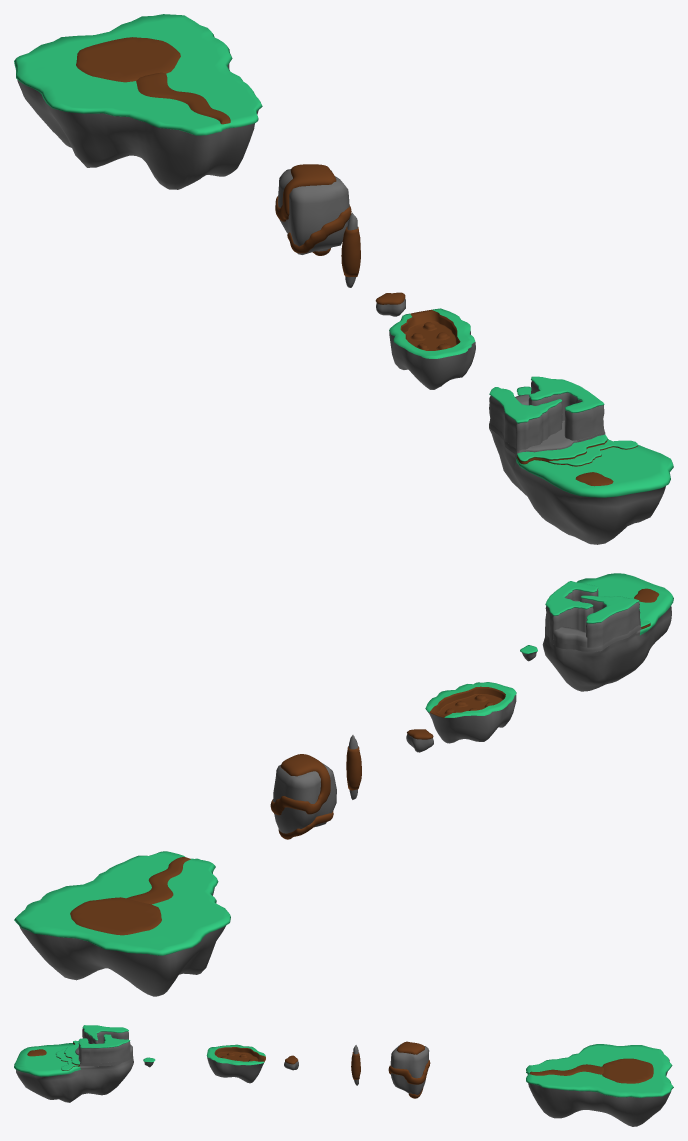
Rendered from Level_1_Models.fbx.
3 views of the same model, one above another, from view 1: azimuth 30°, elevation 25°; view 2: azimuth 150°, elevation 25°; view 3: azimuth 270°, elevation 25° (orthographic). The views are drawn at different scales.
Visible parts, largest first — view 1: IslandEndingArea_Model, IslandStartingArea_Model, WallsStartingArea_Model, IslandEndingAreaTreePlace_Model, IslandBiglMudStone_Model, IslandMudAreaStone_Model, StepsStartingArea_Model, IslandBiglMudDirt_Model, IslandEndingAreaPath_Model, IslandMudAreaDirt_Model, PillarMudAreaDirt_Model; view 2: IslandEndingArea_Model, IslandStartingArea_Model, WallsStartingArea_Model, IslandMudAreaStone_Model, IslandEndingAreaTreePlace_Model, IslandBiglMudStone_Model, IslandBiglMudDirt_Model, IslandMudAreaDirt_Model, IslandEndingAreaPath_Model; view 3: IslandEndingArea_Model, IslandStartingArea_Model, WallsStartingArea_Model, IslandMudAreaStone_Model, IslandBiglMudStone_Model, IslandEndingAreaTreePlace_Model, IslandBiglMudDirt_Model, StepsStartingArea_Model, IslandMudAreaDirt_Model, IslandEndingAreaPath_Model, PillarMudAreaDirt_Model.
Part boxes in pixels (left/top/right/bottom): IslandEndingArea_Model: left=14, top=14, right=262, bottom=189; IslandStartingArea_Model: left=489, top=428, right=673, bottom=544; WallsStartingArea_Model: left=489, top=376, right=604, bottom=451; IslandEndingAreaTreePlace_Model: left=76, top=37, right=180, bottom=82; IslandBiglMudStone_Model: left=278, top=169, right=349, bottom=254; IslandMudAreaStone_Model: left=389, top=308, right=475, bottom=389; StepsStartingArea_Model: left=489, top=420, right=637, bottom=466; IslandBiglMudDirt_Model: left=275, top=164, right=351, bottom=255; IslandEndingAreaPath_Model: left=136, top=72, right=230, bottom=124; IslandMudAreaDirt_Model: left=400, top=309, right=460, bottom=350; PillarMudAreaDirt_Model: left=341, top=226, right=360, bottom=277; IslandEndingArea_Model: left=14, top=851, right=230, bottom=996; IslandStartingArea_Model: left=542, top=573, right=673, bottom=691; WallsStartingArea_Model: left=545, top=581, right=640, bottom=647; IslandMudAreaStone_Model: left=425, top=682, right=516, bottom=743; IslandEndingAreaTreePlace_Model: left=70, top=897, right=161, bottom=935; IslandBiglMudStone_Model: left=273, top=763, right=336, bottom=833; IslandBiglMudDirt_Model: left=270, top=754, right=333, bottom=839; IslandMudAreaDirt_Model: left=430, top=686, right=505, bottom=717; IslandEndingAreaPath_Model: left=127, top=857, right=190, bottom=904; IslandEndingArea_Model: left=526, top=1044, right=673, bottom=1126; IslandStartingArea_Model: left=14, top=1043, right=133, bottom=1102; WallsStartingArea_Model: left=78, top=1025, right=130, bottom=1063; IslandMudAreaStone_Model: left=206, top=1044, right=265, bottom=1083; IslandBiglMudStone_Model: left=390, top=1044, right=429, bottom=1094; IslandEndingAreaTreePlace_Model: left=602, top=1058, right=653, bottom=1083; IslandBiglMudDirt_Model: left=388, top=1041, right=430, bottom=1098; StepsStartingArea_Model: left=56, top=1040, right=132, bottom=1070; IslandMudAreaDirt_Model: left=214, top=1047, right=265, bottom=1061; IslandEndingAreaPath_Model: left=529, top=1064, right=603, bottom=1075; PillarMudAreaDirt_Model: left=351, top=1052, right=360, bottom=1079.
Size of the model in its own units: 13251 by 7309 by 66347.
